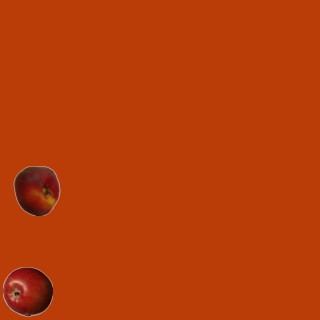Apple Braeburn: (2, 266, 52, 316)
Nectarine Flat: (11, 165, 61, 215)
